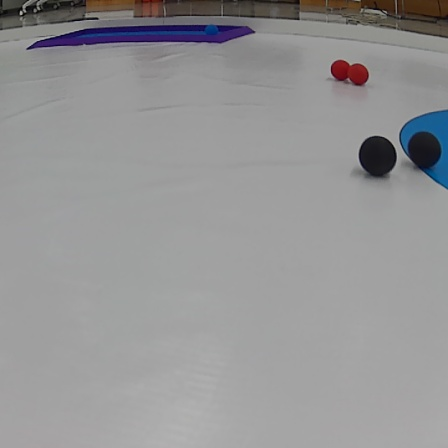black: (361, 137, 397, 177), (409, 129, 440, 167)
blue: (205, 24, 219, 36)
blue_aim: (26, 26, 257, 48)
blue_base: (399, 106, 448, 188)
red: (349, 65, 369, 85), (331, 59, 349, 80)
